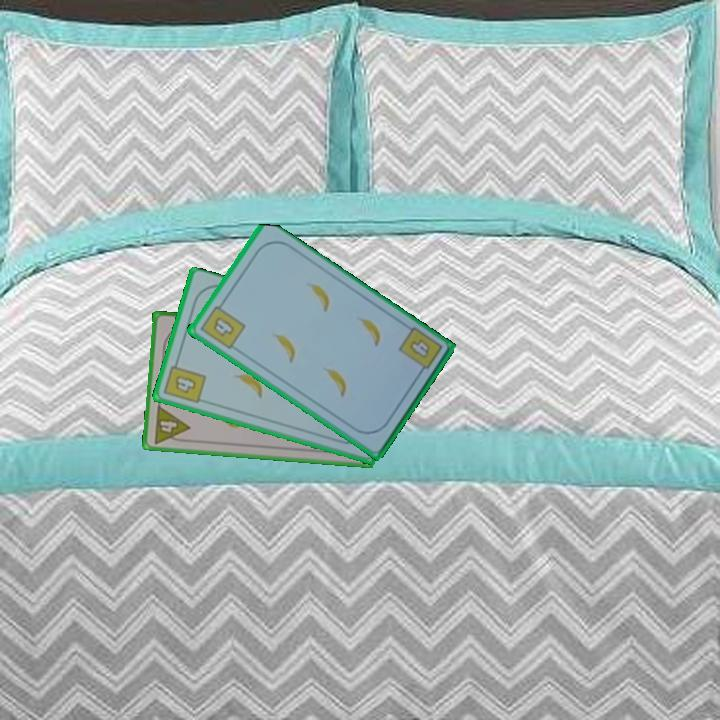4b: (196, 298, 248, 352), (395, 323, 445, 379), (160, 356, 209, 407)
4p: (150, 402, 192, 446)
